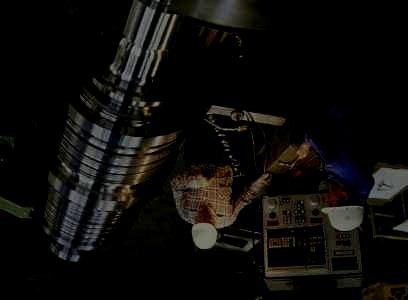helmet: (319, 184, 365, 232), (191, 210, 218, 250)
